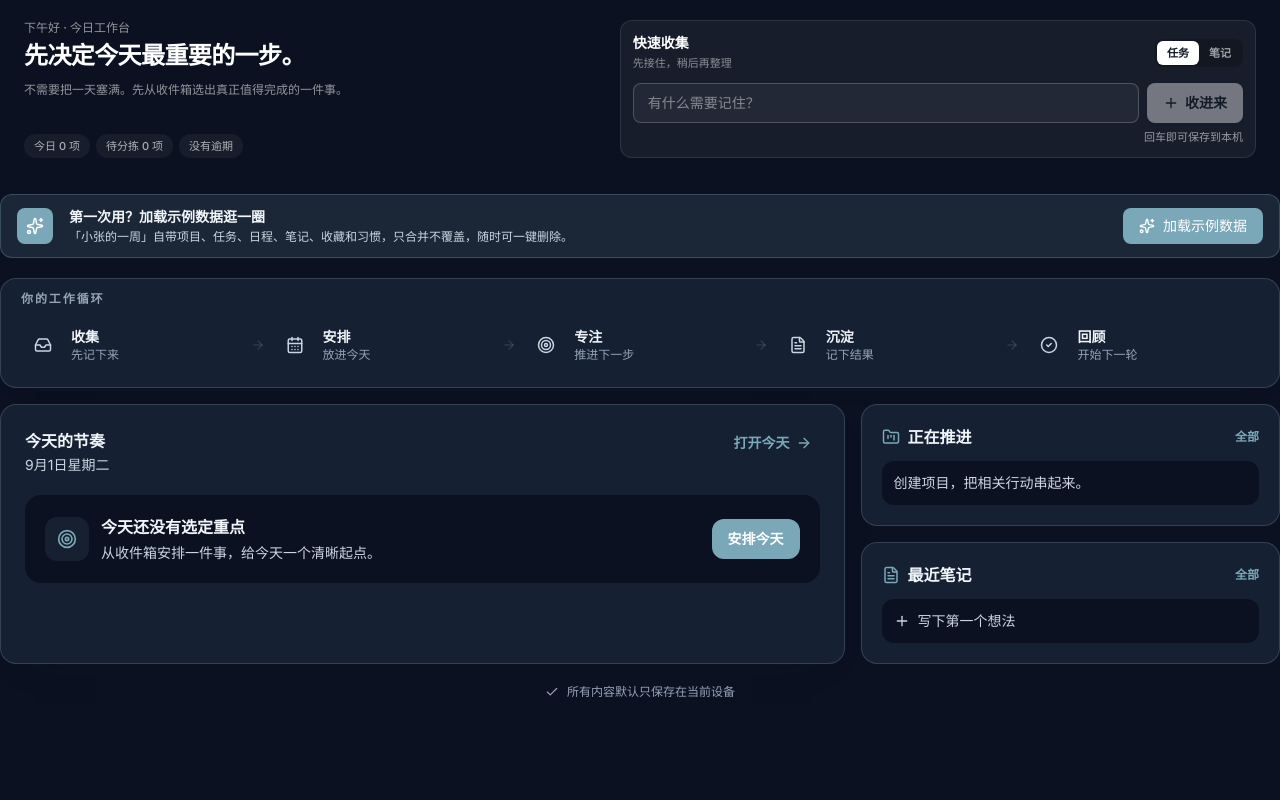
Scenario: HomeOverview › captures a task into the inbox without opening another surface
Step 1. Type "整理周报材料" into the field named "记录一个待办事项" → (886, 103), box [633,83,1139,123]
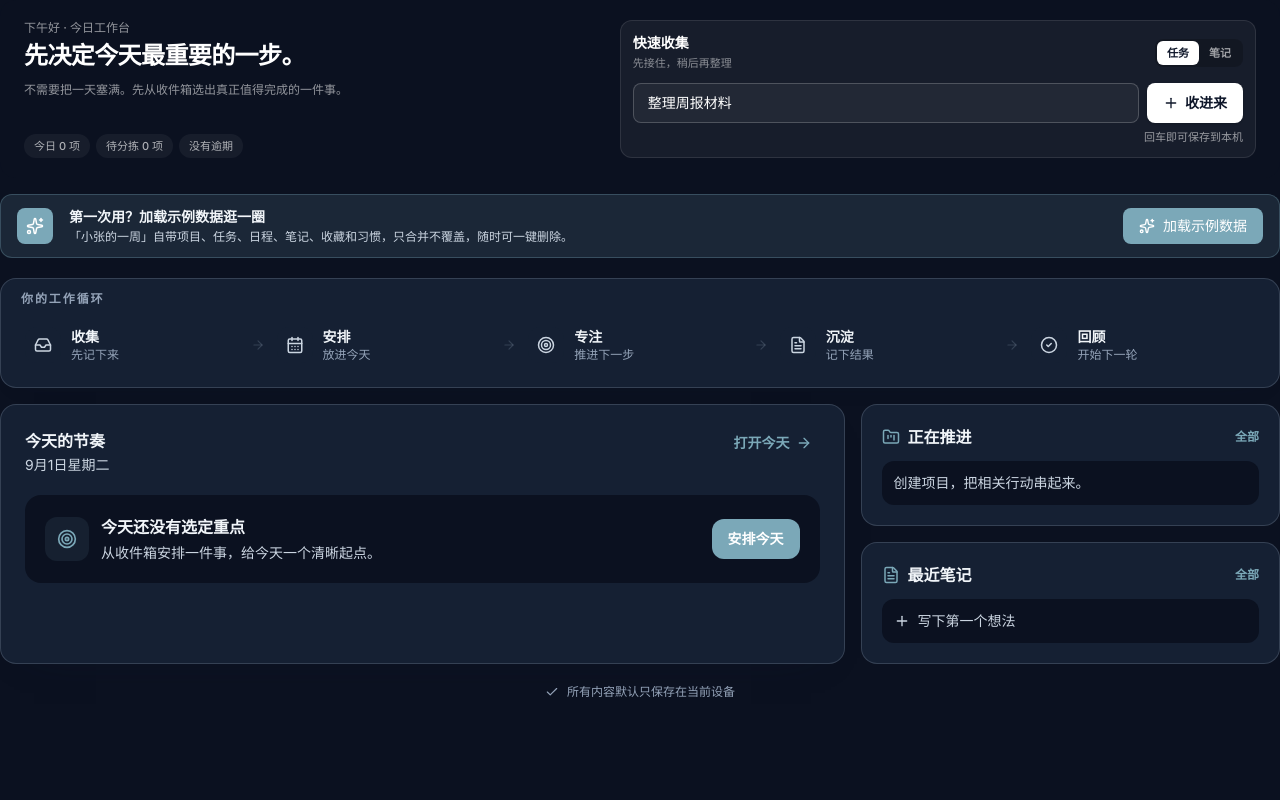
Step 2. Click the button "收进来" → (1195, 103), box [1147,83,1243,123]
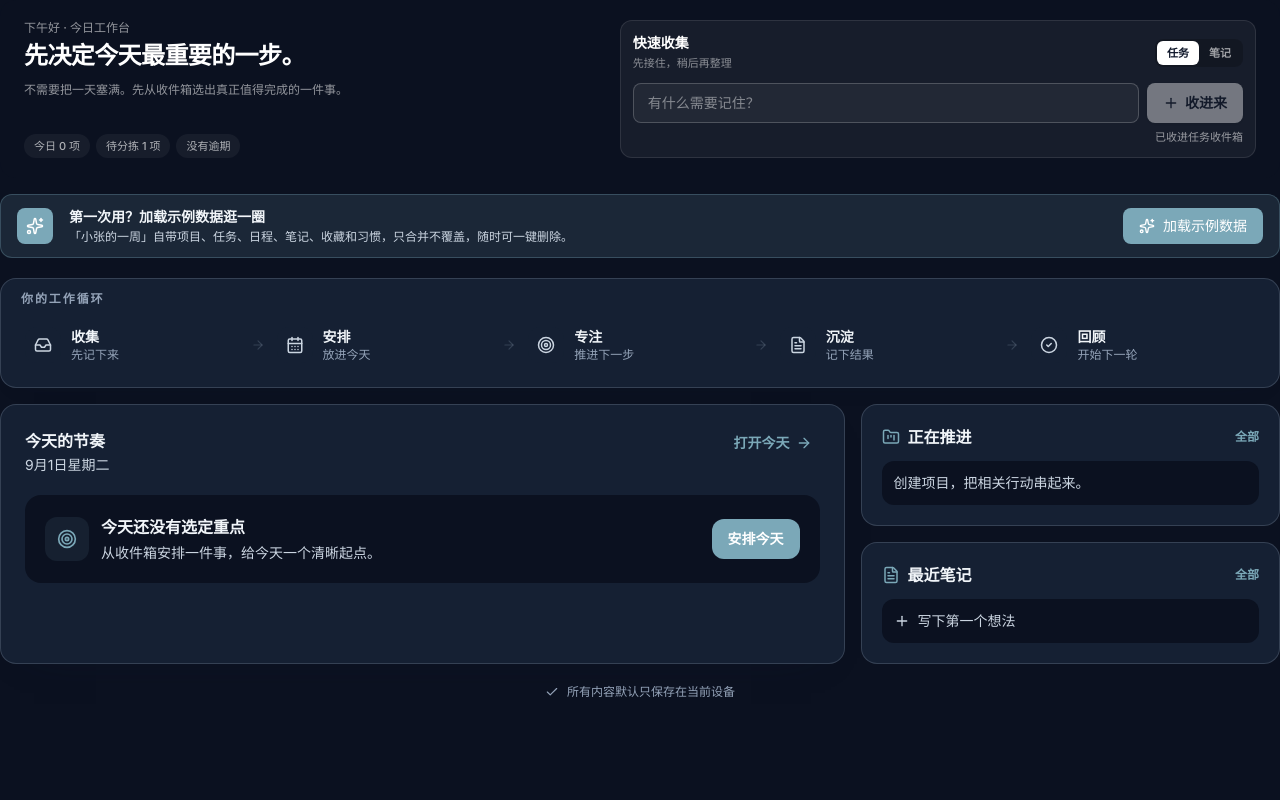
Expected: the text "已收进任务收件箱" is shown, [1155,130,1243,144]
